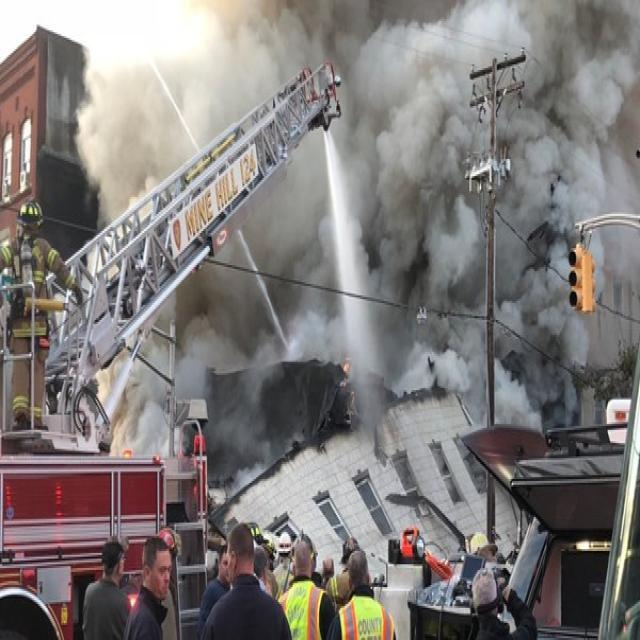Smoke: (343, 8, 630, 346), (190, 170, 332, 467), (88, 59, 232, 182)
